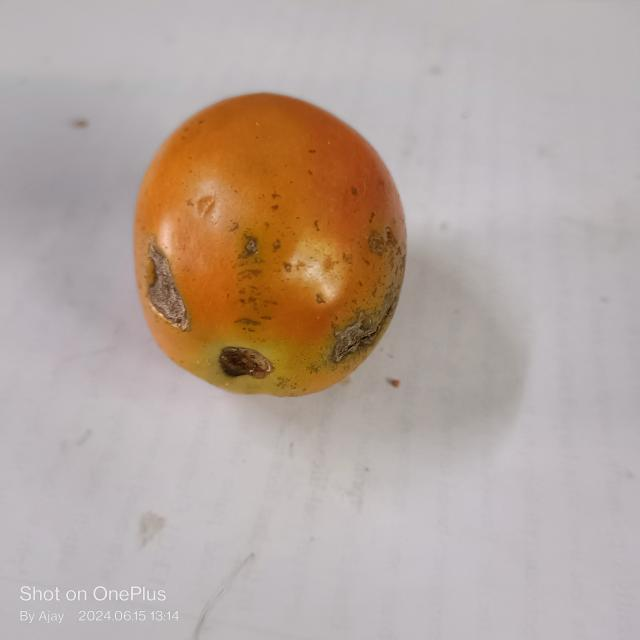Bacterial_Spot: (328, 225, 398, 369), (139, 240, 187, 328), (235, 232, 262, 262)
